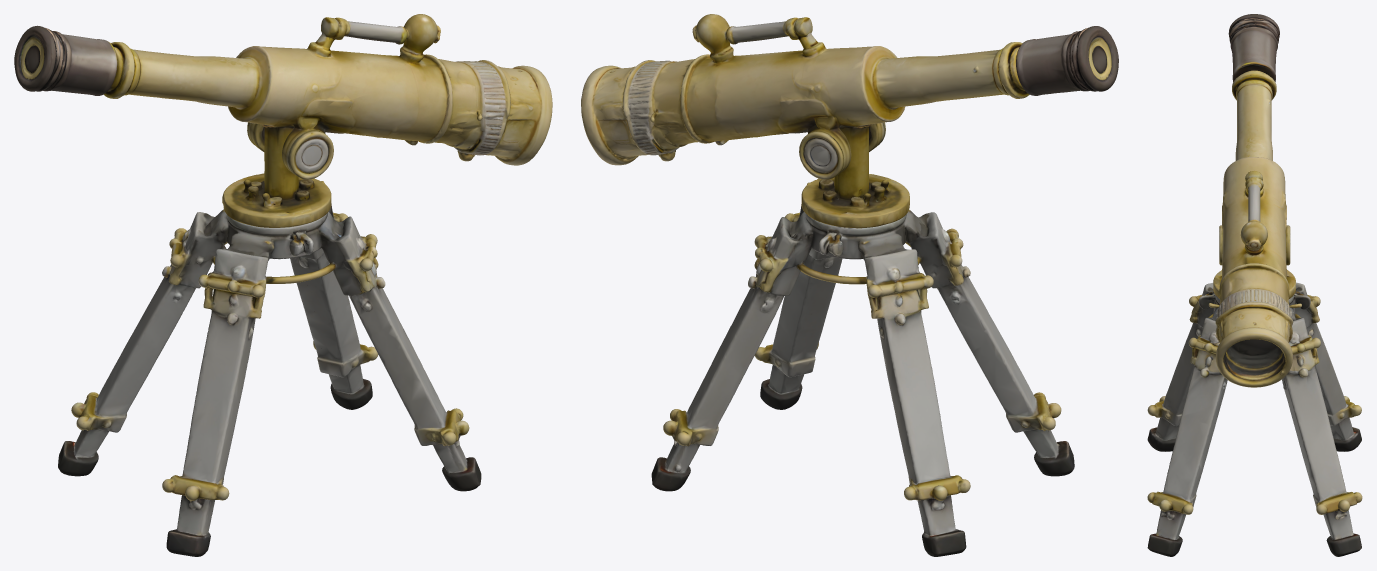
File: prop-telescope.glb
The picture shows the model from 3 angles, left to right: view 1: azimuth 30°, elevation 25°; view 2: azimuth 150°, elevation 25°; view 3: azimuth 270°, elevation 25°; orthographic projection. The views are drawn at different scales.
Visible parts, largest first — view 1: tripo_node_05ae6302-03a8-449b-bfee-b9738ee2b5f8; view 2: tripo_node_05ae6302-03a8-449b-bfee-b9738ee2b5f8; view 3: tripo_node_05ae6302-03a8-449b-bfee-b9738ee2b5f8.
Part boxes in pixels (x1,y1,x2,y2): tripo_node_05ae6302-03a8-449b-bfee-b9738ee2b5f8: [14, 14, 552, 556]; tripo_node_05ae6302-03a8-449b-bfee-b9738ee2b5f8: [581, 14, 1118, 556]; tripo_node_05ae6302-03a8-449b-bfee-b9738ee2b5f8: [1147, 14, 1362, 556].
Size of the model in its own units: 1.92 by 1.8 by 0.8782.
Materials: 1 (1 with a texture image).
